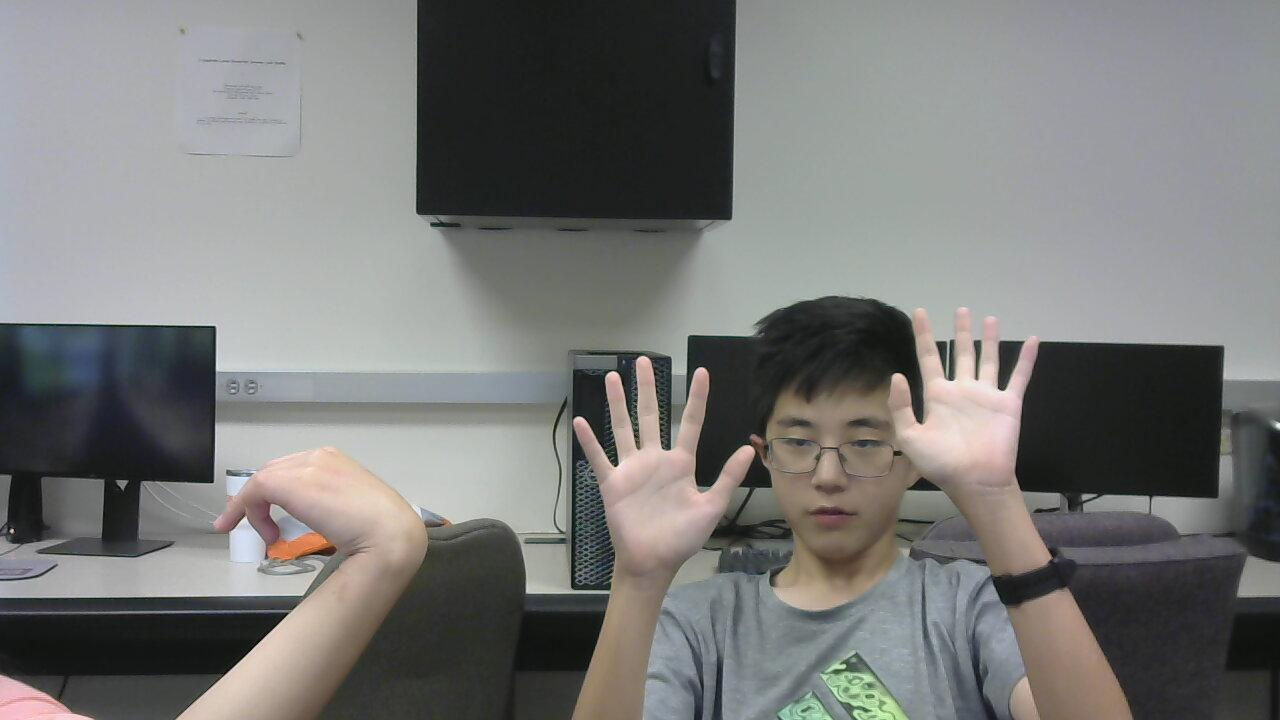hands: (558, 353, 763, 563), (217, 441, 443, 575), (893, 303, 1032, 479)
